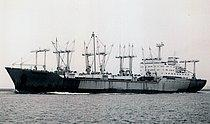Ship: (5, 29, 209, 99)
